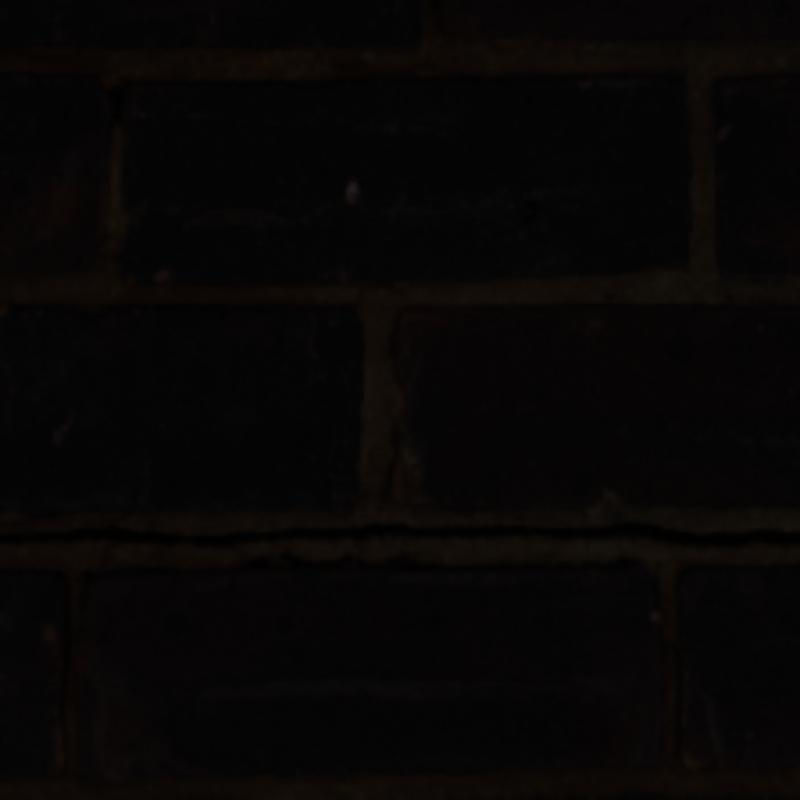crack: (0, 525, 796, 543)
